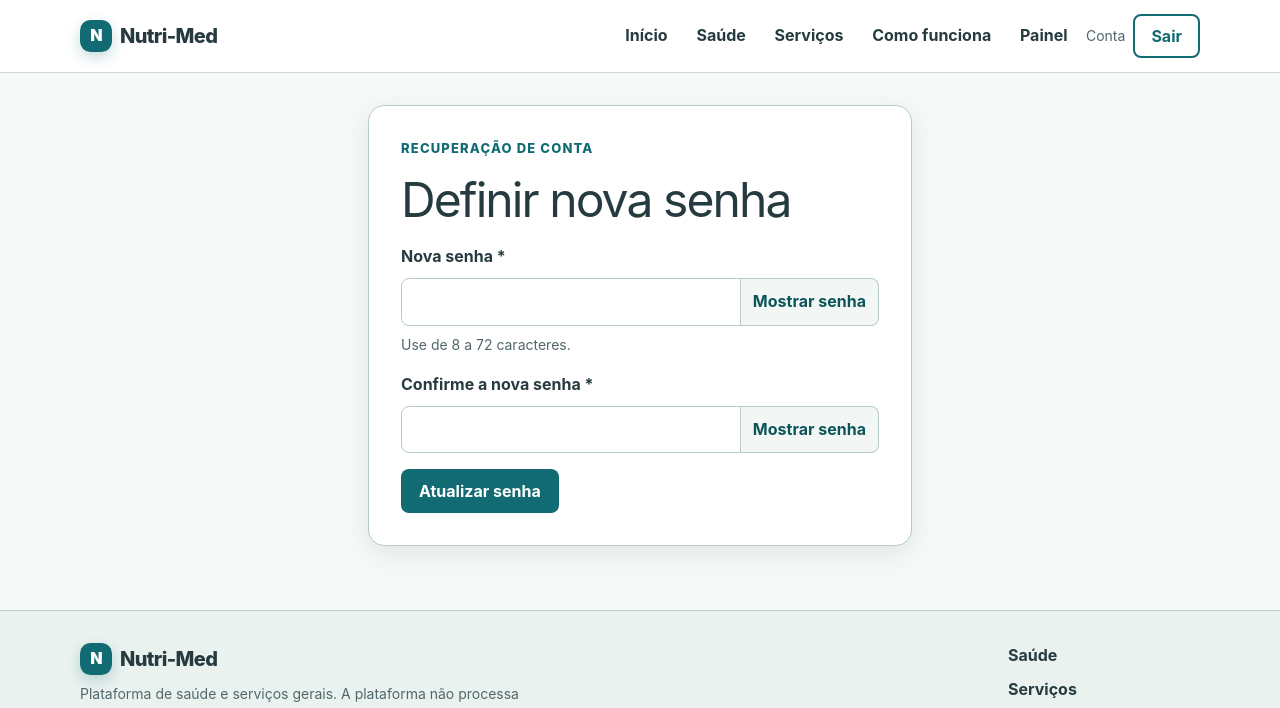
autenticação › atualiza senha com sessão recuperada e impede envio duplicado
This screenshot has width=1280, height=708.
Type "Nova-senha-123" into the password field labelled "Nova senha *".
click(571, 302); type("Nova-senha-123")  # box x1=401 y1=278 x2=741 y2=326
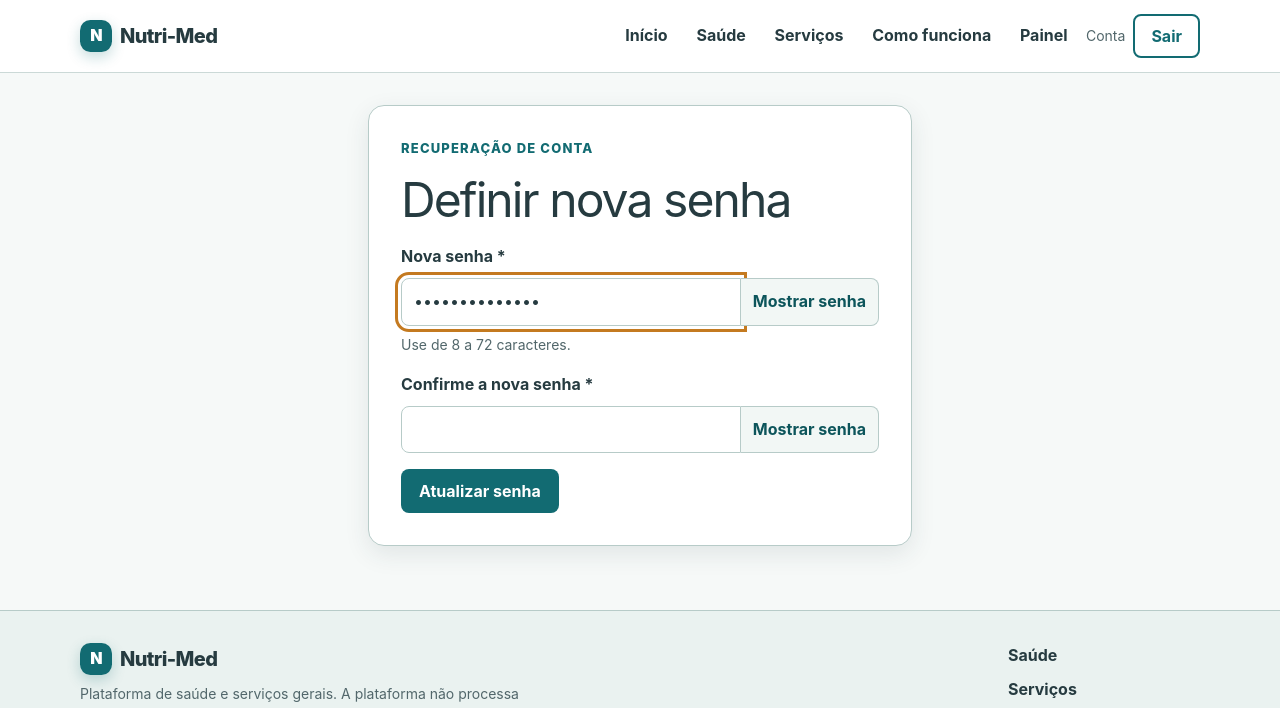
Type "Nova-senha-123" into the password field labelled "Confirme a nova senha *".
click(571, 429); type("Nova-senha-123")  # box x1=401 y1=406 x2=741 y2=453
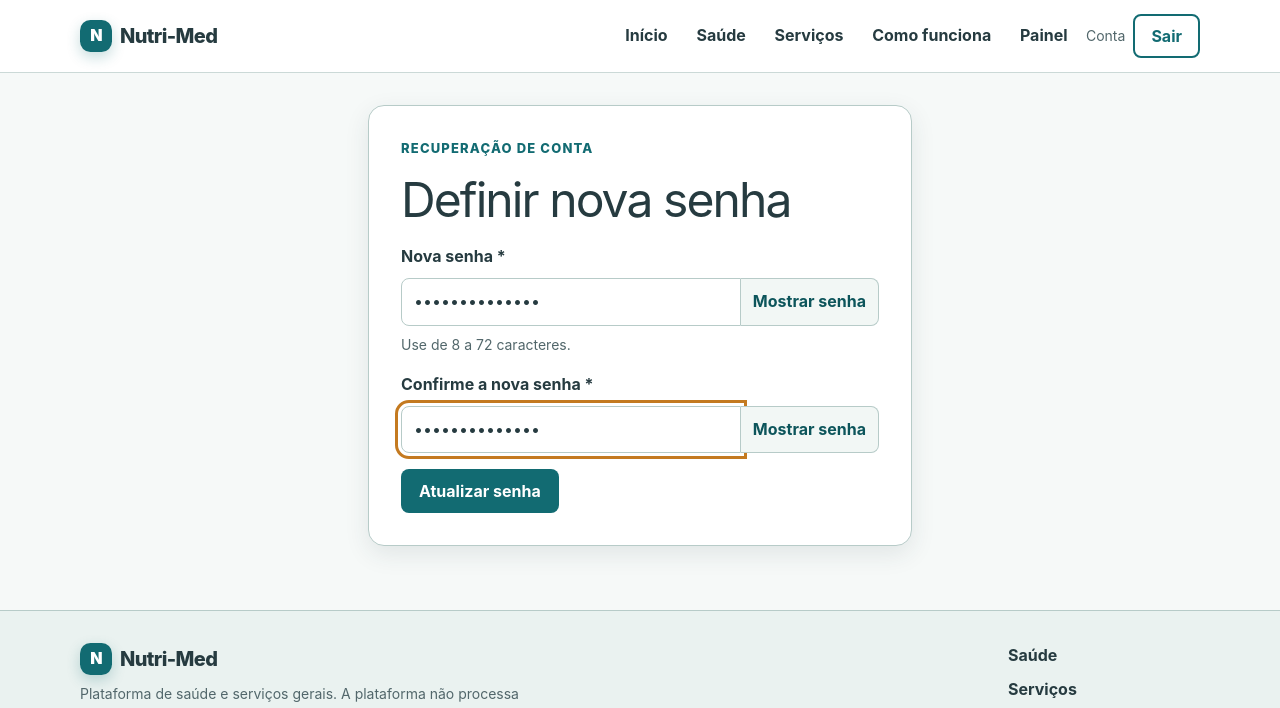
Double-click the button "Atualizar senha".
double_click(480, 491)  # box x1=401 y1=469 x2=559 y2=513
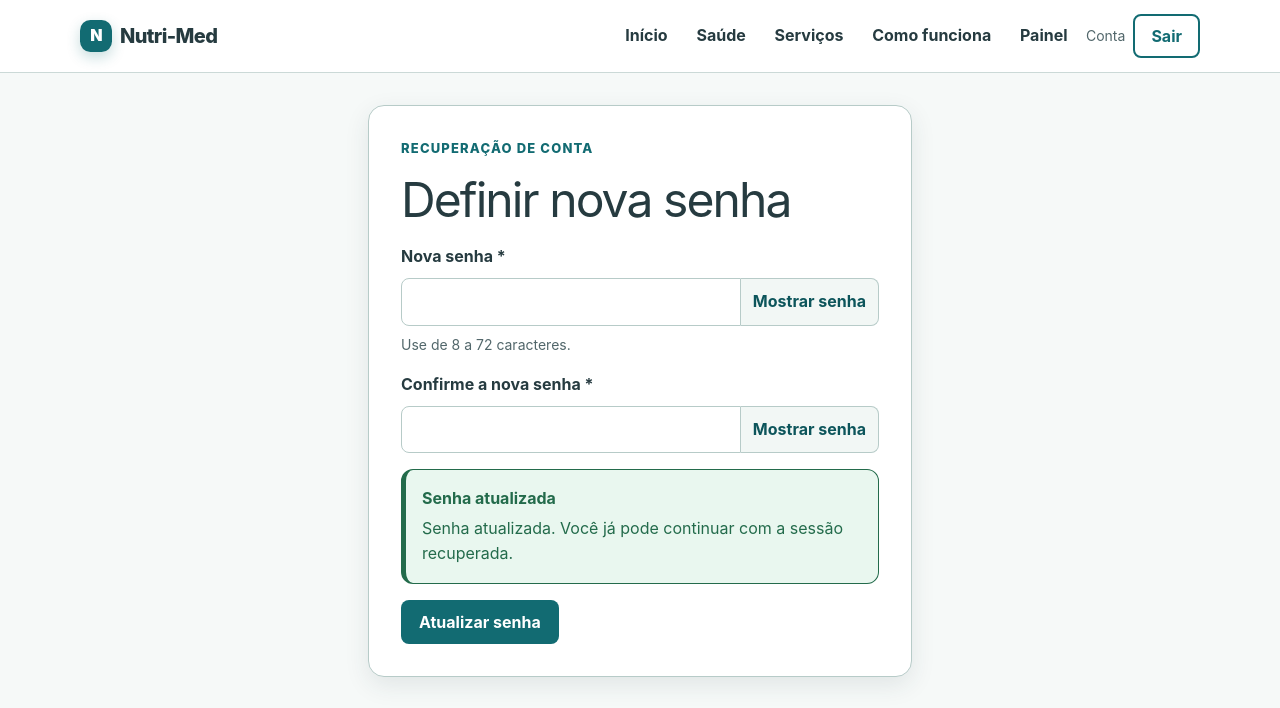
Now the message shows "Senha atualizada", box x1=422 y1=488 x2=556 y2=508
